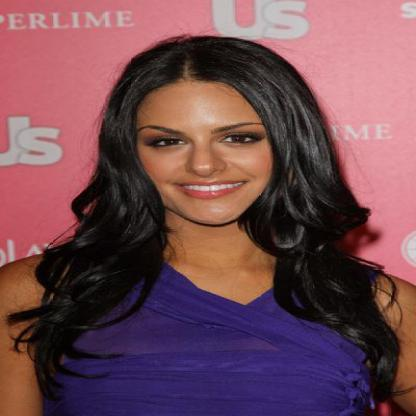long-hair: (44, 226, 391, 274)
